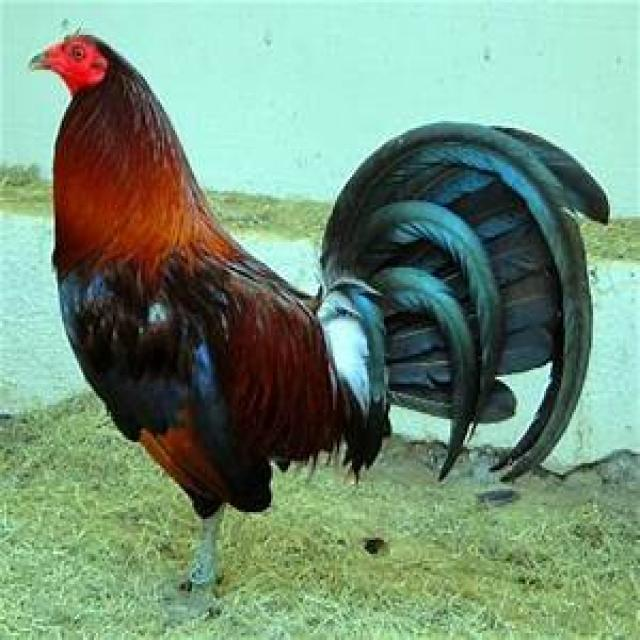hen: (26, 33, 382, 612)
